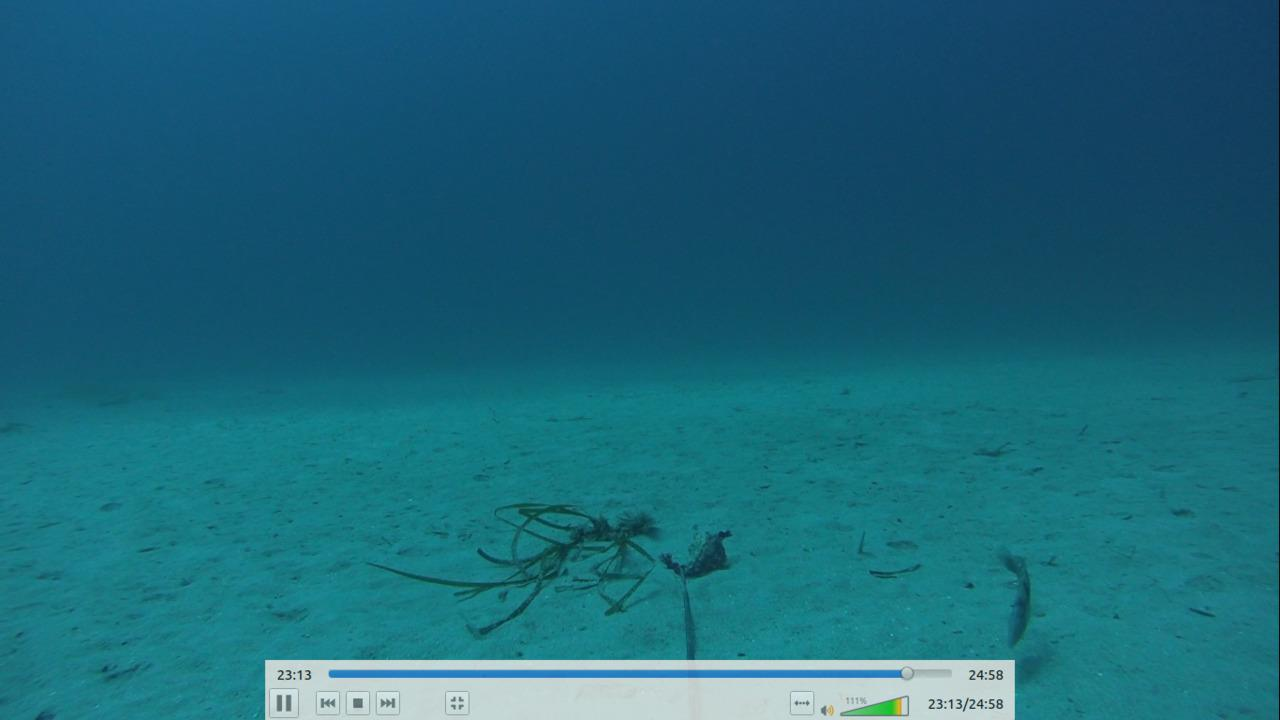raor: (990, 541, 1036, 647)
